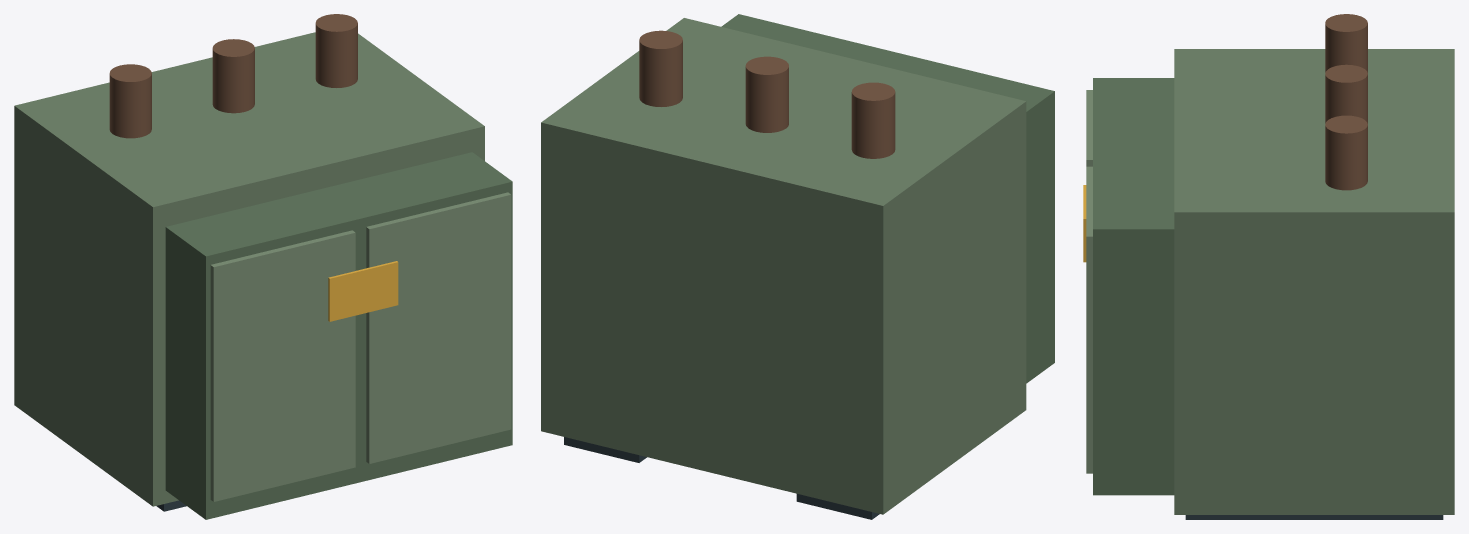
The model's file is stlib-ele-pad-mount-transformer-v1.glb.
3 renders of one model, left to right at view 1: azimuth 30°, elevation 25°; view 2: azimuth 150°, elevation 25°; view 3: azimuth 270°, elevation 25°, orthographic. The views are drawn at different scales.
Parts seen in each view (by area): view 1: Tank, Front compartment, Door -0.34, Door 0.34, HV bushing (×3), Warning placard; view 2: Tank, Front compartment, HV bushing (×3), Mounting rail (×2); view 3: Tank, Front compartment, HV bushing (×3), Door 0.34, Mounting rail, Door -0.34.
Part boxes in pixels (x1,y1,x2,y2): Tank: [14, 32, 484, 506]; Front compartment: [165, 152, 512, 519]; Door -0.34: [210, 230, 355, 501]; Door 0.34: [366, 192, 511, 463]; HV bushing (×3): [109, 14, 357, 138]; Warning placard: [328, 261, 398, 321]; Tank: [541, 18, 1026, 514]; Front compartment: [721, 14, 1054, 383]; HV bushing (×3): [639, 30, 895, 158]; Mounting rail (×2): [564, 437, 879, 519]; Tank: [1174, 49, 1454, 514]; Front compartment: [1093, 78, 1174, 495]; HV bushing (×3): [1325, 14, 1367, 190]; Door 0.34: [1086, 166, 1092, 473]; Mounting rail: [1185, 515, 1443, 519]; Door -0.34: [1086, 90, 1092, 166].
Size of the model in its own units: 1.45 by 1.54 by 1.39.
